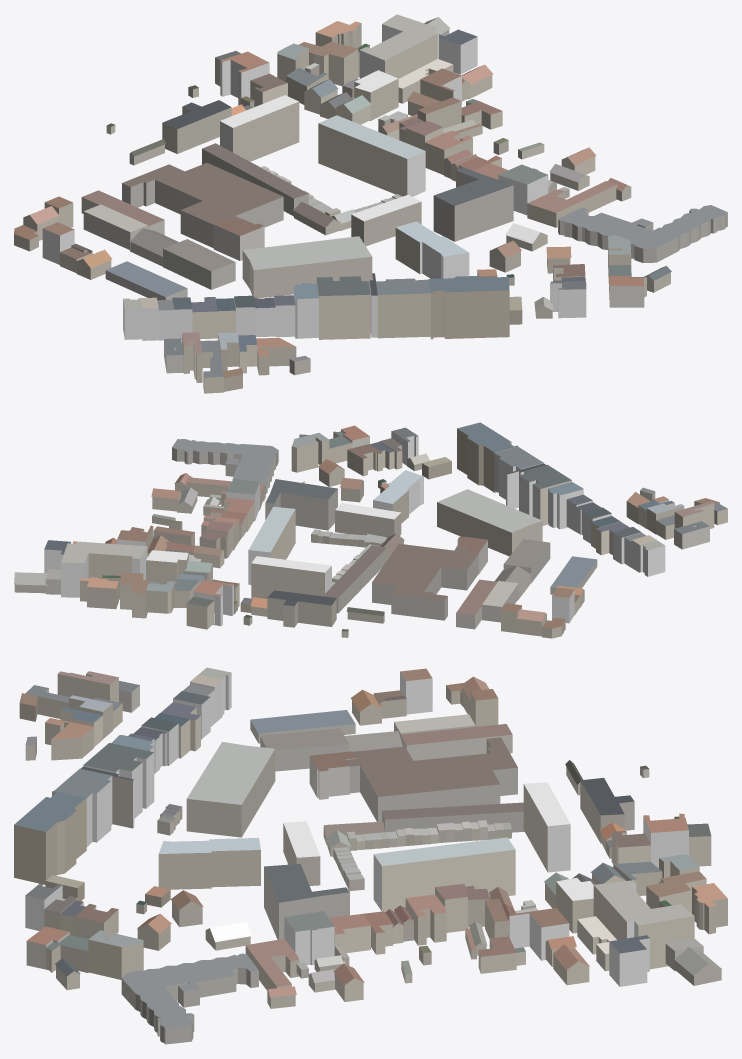
The picture shows the model from 3 angles, top to bottom: view 1: azimuth 30°, elevation 25°; view 2: azimuth 150°, elevation 25°; view 3: azimuth 270°, elevation 25°; orthographic projection. The views are drawn at different scales.
Visible parts, largest first — view 1: tuile; view 2: tuile; view 3: tuile.
Boxes of the visible parts, left/top/right/bottom form: tuile: left=14, top=14, right=727, bottom=393; tuile: left=14, top=422, right=727, bottom=638; tuile: left=14, top=667, right=727, bottom=1044.
Size of the model in its own units: 281 by 31.06 by 259.
